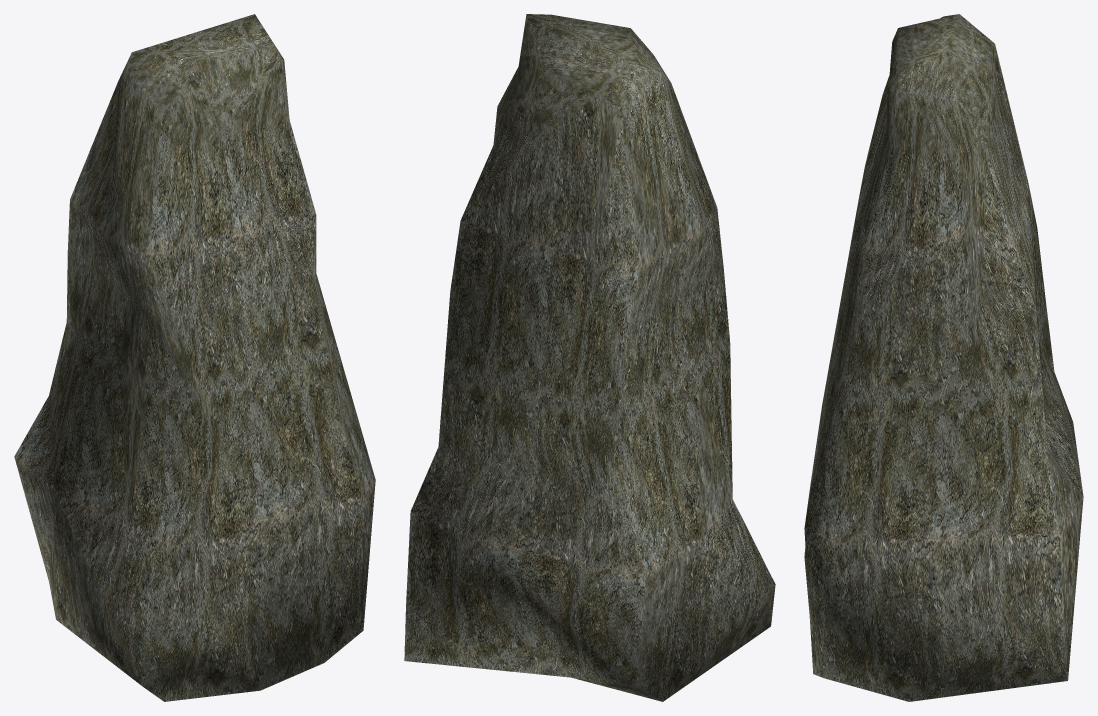
Rendered from rock_dant_l1.fbx.
The picture shows the model from 3 angles, left to right: view 1: azimuth 30°, elevation 25°; view 2: azimuth 150°, elevation 25°; view 3: azimuth 270°, elevation 25°; orthographic projection. The views are drawn at different scales.
Visible parts, largest first — view 1: mesh_node; view 2: mesh_node; view 3: mesh_node.
Part boxes in pixels (left/top/right/bottom): mesh_node: left=14, top=14, right=375, bottom=701; mesh_node: left=404, top=14, right=775, bottom=701; mesh_node: left=804, top=14, right=1083, bottom=701.
Bounding box in the file's own units: 2.04 × 4.69 × 1.89.
Materials: 1 (1 with a texture image).
